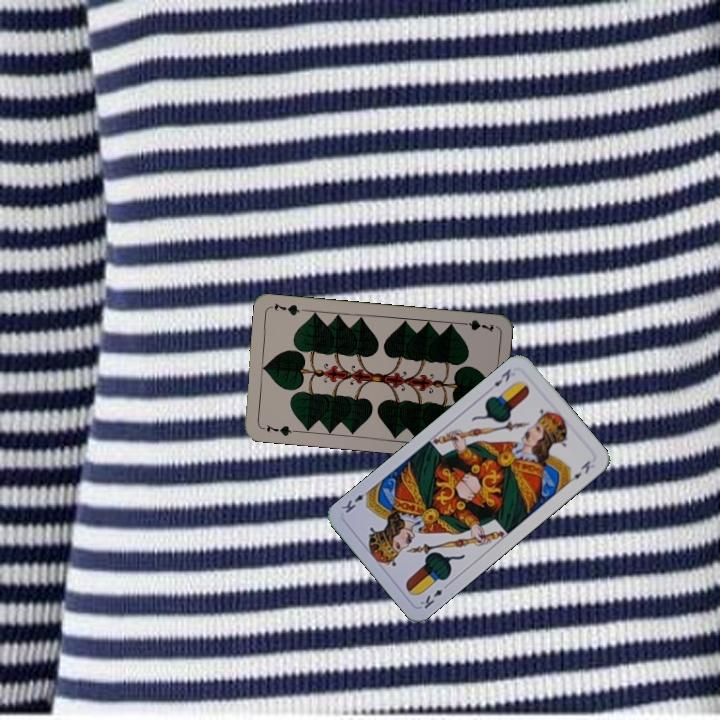EK: (416, 579, 452, 612), (490, 364, 514, 389)
G7: (456, 316, 496, 335), (257, 421, 298, 439)
